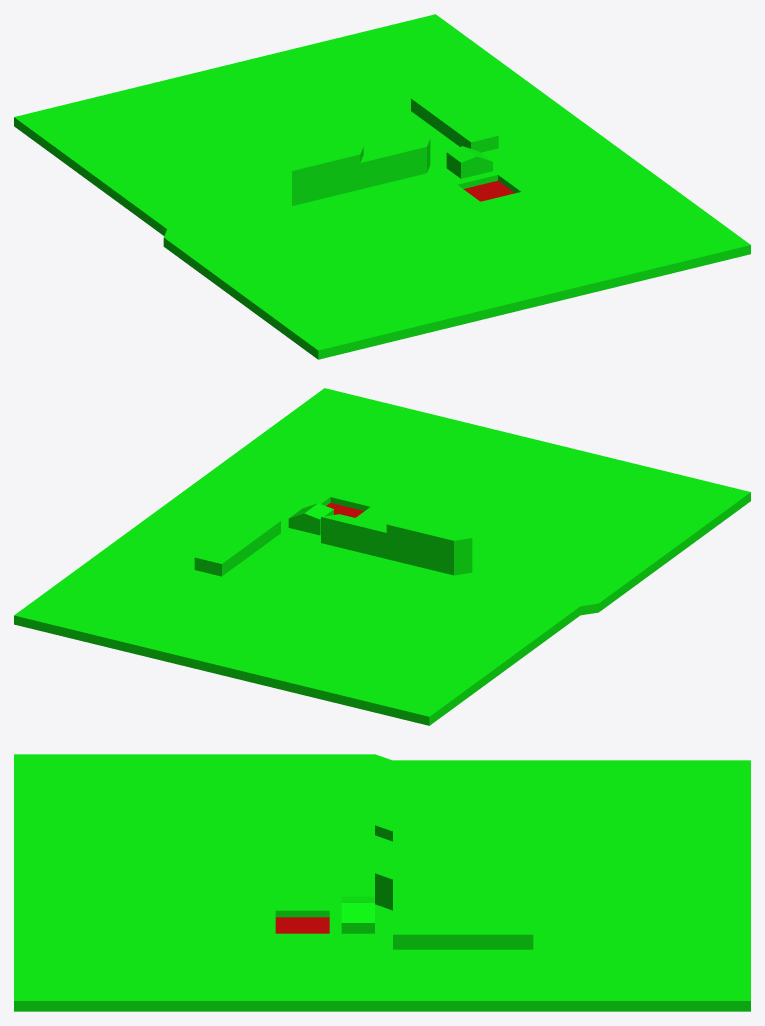
Rendered from map.obj.
3 renders of one model, top to bottom at view 1: azimuth 30°, elevation 25°; view 2: azimuth 150°, elevation 25°; view 3: azimuth 270°, elevation 25°, orthographic. The views are drawn at different scales.
Visible parts, largest first — view 1: Cube, Cube.001; view 2: Cube; view 3: Cube, Cube.001.
Boxes of the visible parts, x1,y1,x2,y2 form: Cube: (14,14,750,359); Cube.001: (463,180,514,201); Cube: (14,388,750,725); Cube: (14,754,750,1011); Cube.001: (275,917,329,933).
Bounding box in the file's own units: 98.25 × 9.62 × 124.
